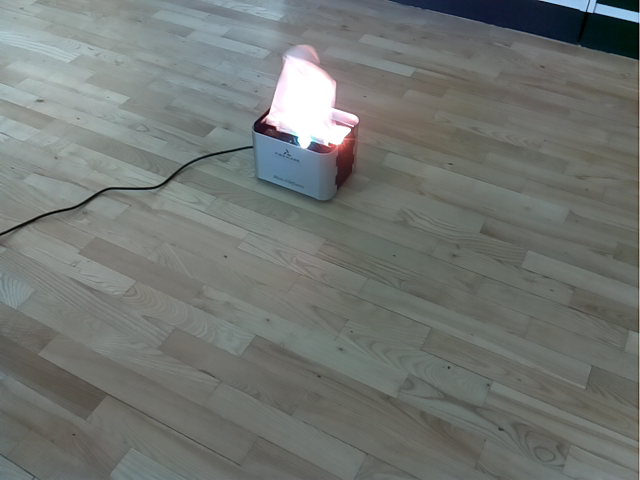fire: (266, 43, 341, 146)
